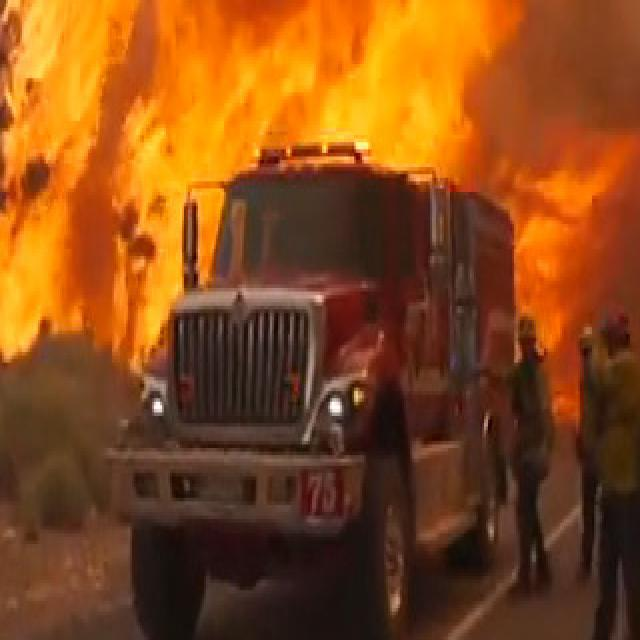fire: (164, 0, 588, 139), (0, 0, 170, 309)
